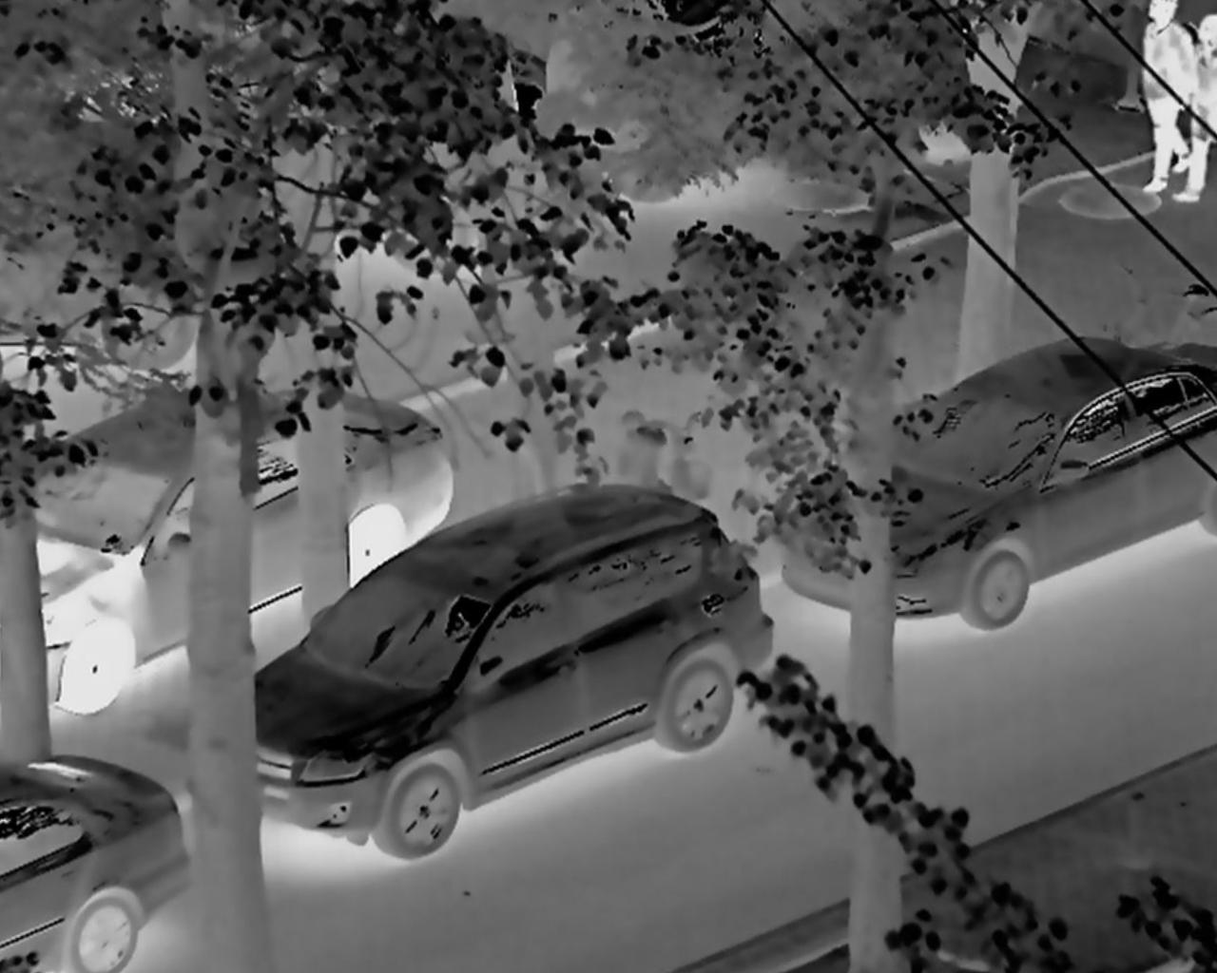person: (1181, 12, 1217, 210)
